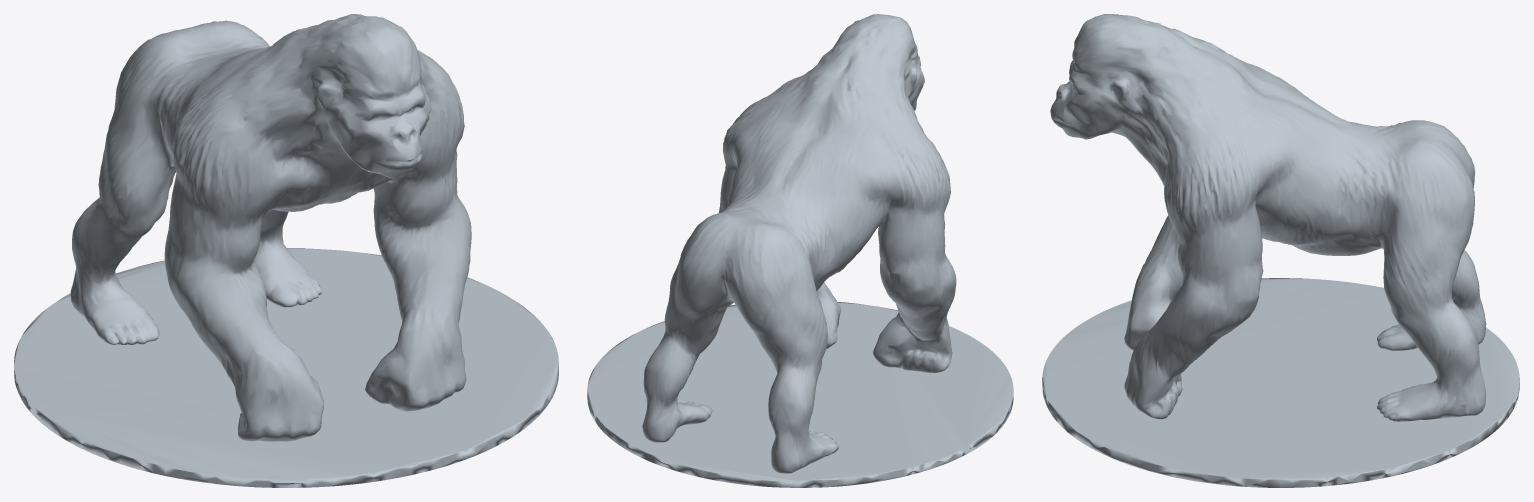
File: giant-ape.glb
The picture shows the model from 3 angles, left to right: view 1: azimuth 30°, elevation 25°; view 2: azimuth 150°, elevation 25°; view 3: azimuth 270°, elevation 25°; orthographic projection. The views are drawn at different scales.
Parts seen in each view (by area): view 1: Giant_Ape.001; view 2: Giant_Ape.001; view 3: Giant_Ape.001.
Boxes of the visible parts, x1,y1,x2,y2 form: Giant_Ape.001: (14, 14, 558, 487); Giant_Ape.001: (587, 14, 1013, 487); Giant_Ape.001: (1042, 14, 1519, 487).
Size of the model in its own units: 75.74 by 64.02 by 75.74.
1 material, 1 textured.
